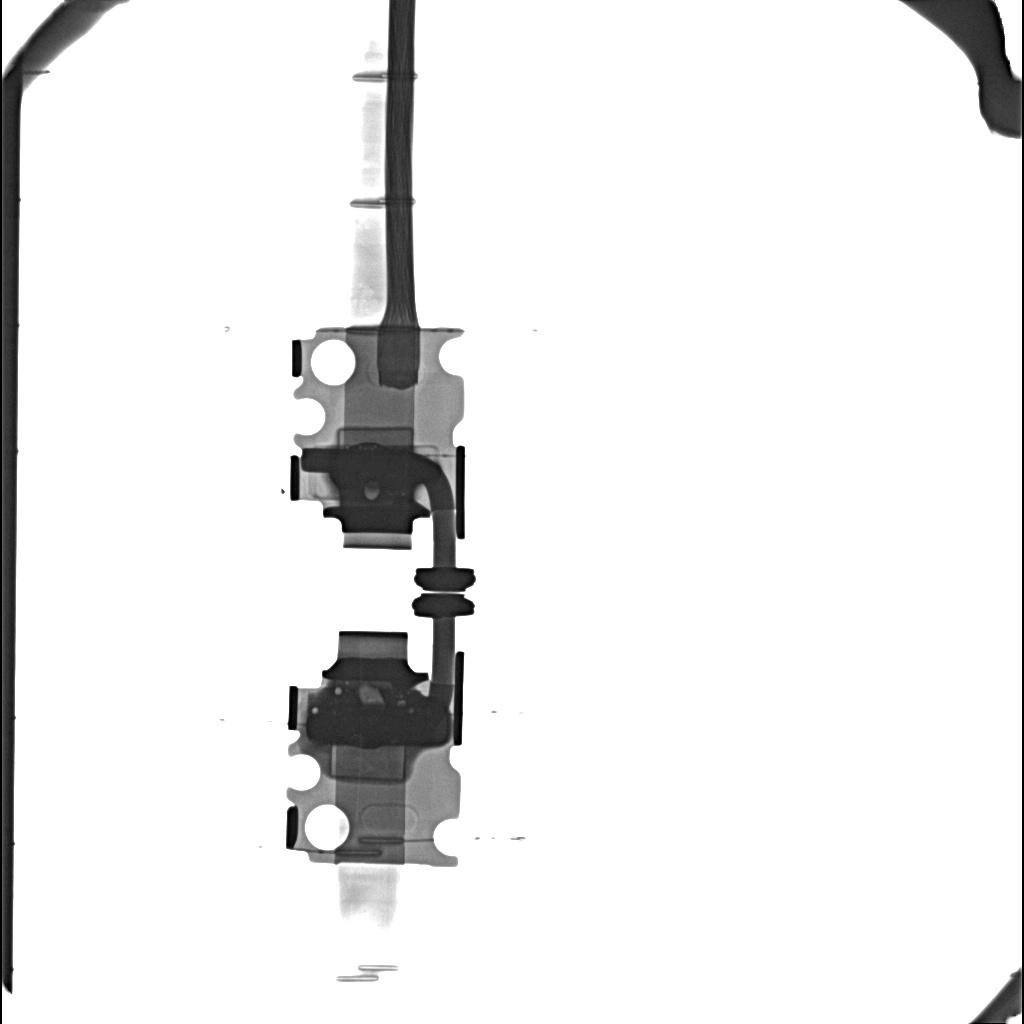PX: (328, 747, 407, 782), (337, 426, 414, 448)
QP: (357, 686, 384, 704), (365, 490, 379, 501), (336, 687, 342, 695)
SX: (307, 698, 450, 750), (331, 450, 441, 489)
